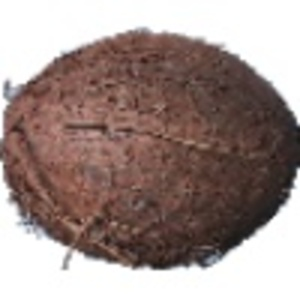coco: (1, 26, 300, 270)
